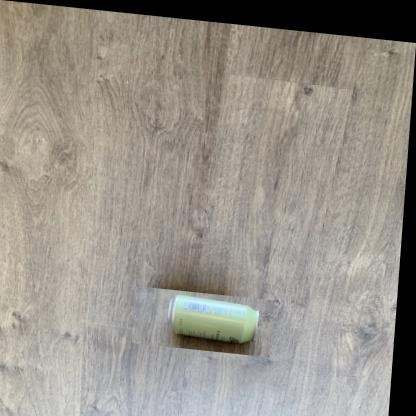trash: (171, 294, 258, 342)
